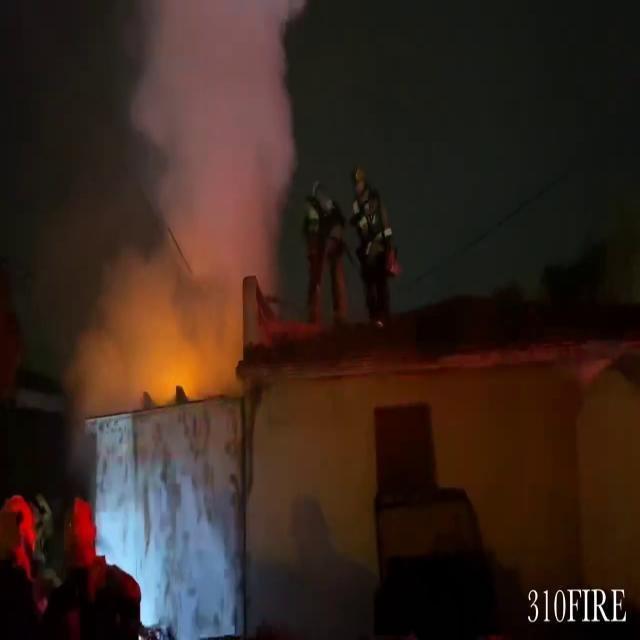Smoke: (71, 0, 310, 382)
